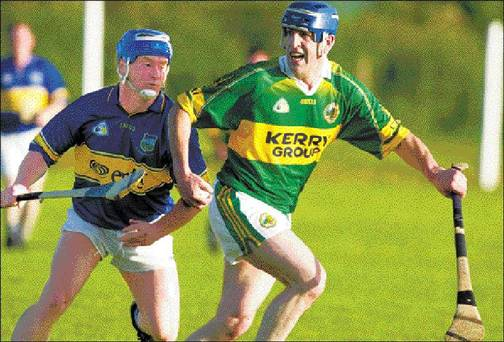hurley: (443, 161, 490, 341), (4, 167, 146, 202)
